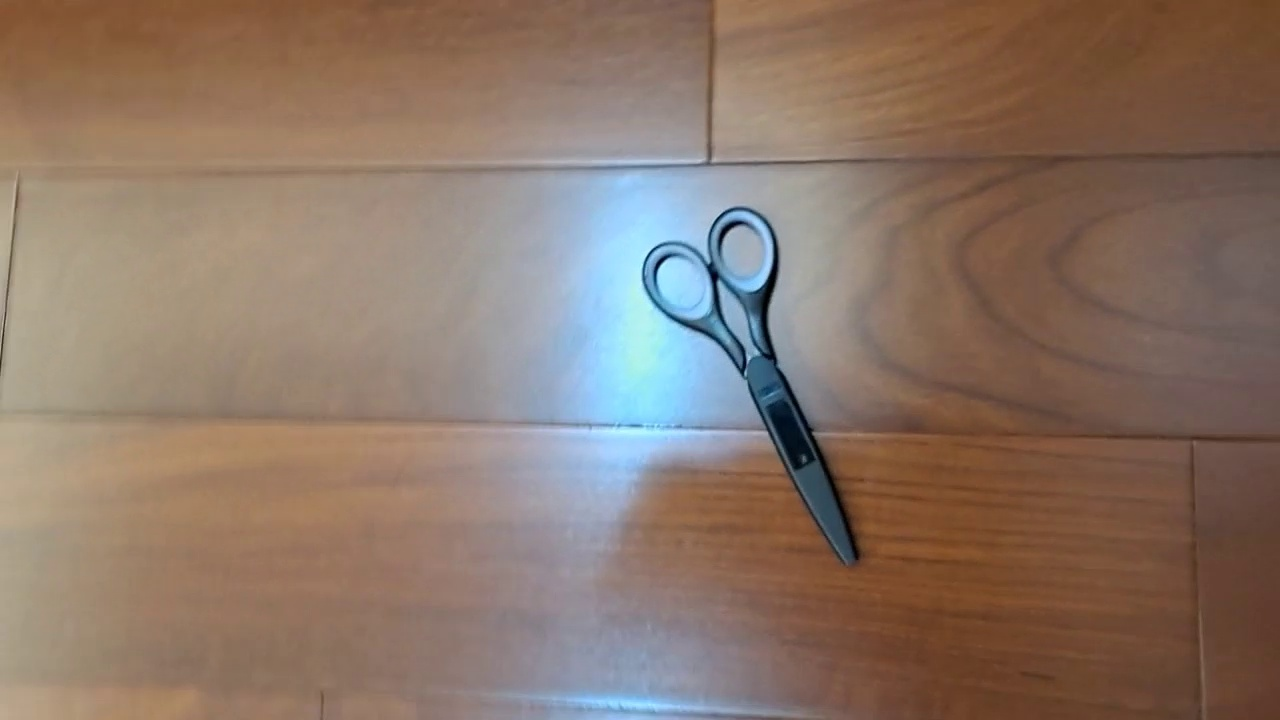scissors: (641, 206, 861, 568)
